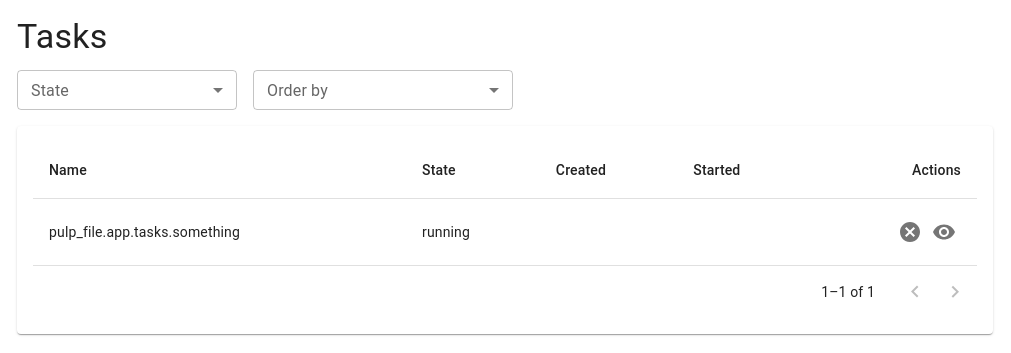
Scenario: Tasks › navigates to task detail when View is clicked
Expected: the text "pulp_file.app.tasks.something" is shown, 33,198 -> 406,265
Click the button named "View" at (944, 232), box 927,215 -> 961,249
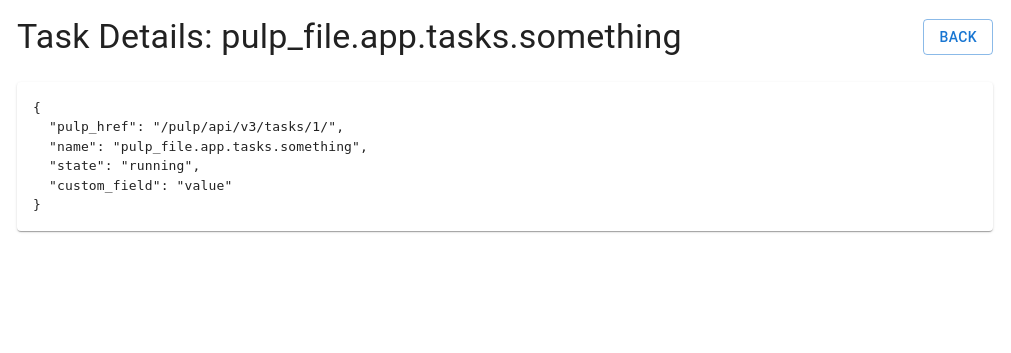
Now the heading "Task Details: pulp_file.app.tasks.something" is shown, box 17,16 -> 682,58
Now the text "custom_field" is shown, box 33,100 -> 368,212
